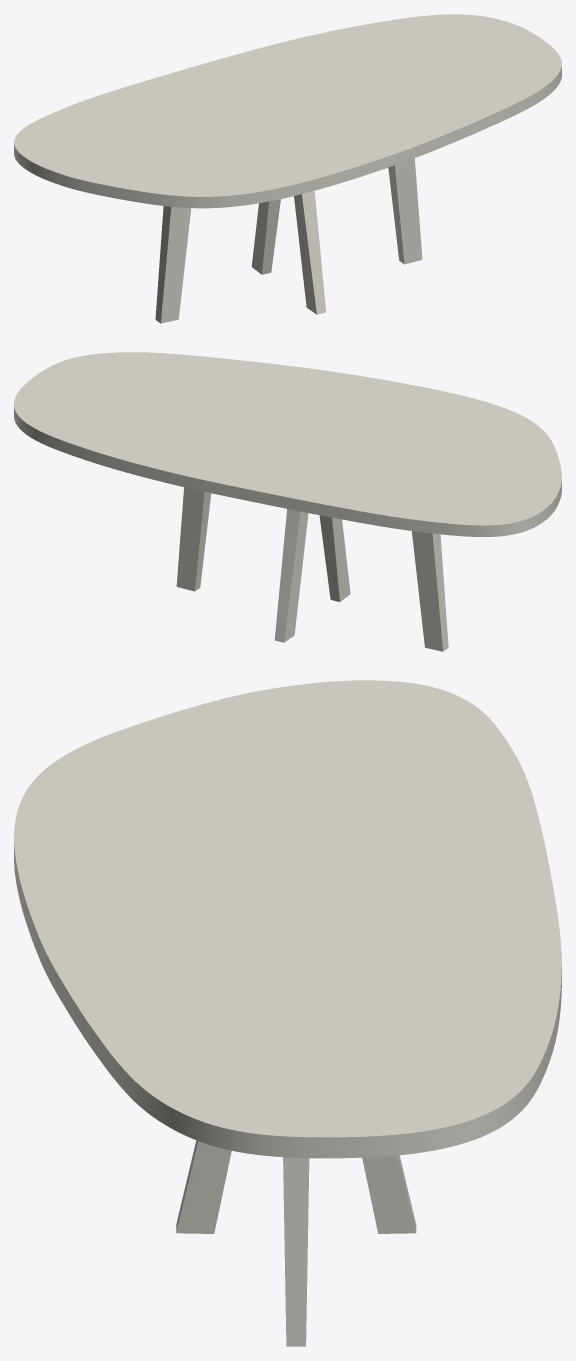
The model's file is pale_leaf2_standard_searwalnut.glb.
3 renders of one model, top to bottom at view 1: azimuth 30°, elevation 25°; view 2: azimuth 150°, elevation 25°; view 3: azimuth 270°, elevation 25°, orthographic. The views are drawn at different scales.
Parts seen in each view (by area): view 1: standard_leaf2, searwalnut; view 2: standard_leaf2, searwalnut; view 3: standard_leaf2, searwalnut.
Boxes of the visible parts, x1=… form: standard_leaf2: x1=14, y1=14, x2=561, y2=208; searwalnut: x1=155, y1=158, x2=422, y2=323; standard_leaf2: x1=14, y1=352, x2=561, y2=536; searwalnut: x1=176, y1=487, x2=448, y2=651; standard_leaf2: x1=14, y1=680, x2=561, y2=1158; searwalnut: x1=176, y1=1140, x2=416, y2=1346.
Size of the model in its own units: 7.5 by 2.52 by 3.8.
Materials: 1 (1 with a texture image).
